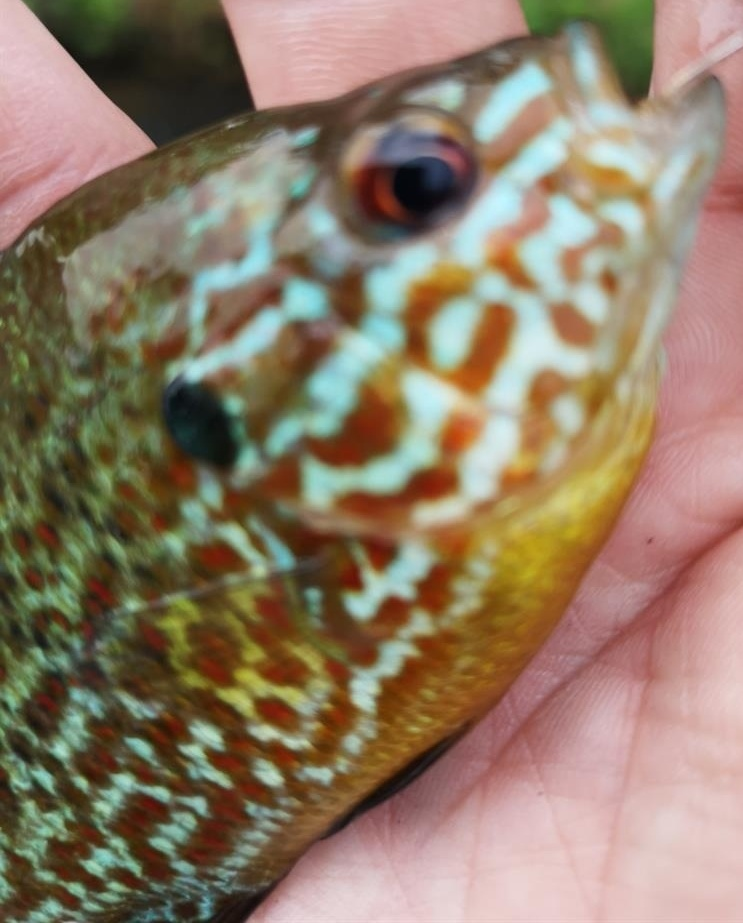Lepomis gibbosus: (1, 20, 723, 922)
